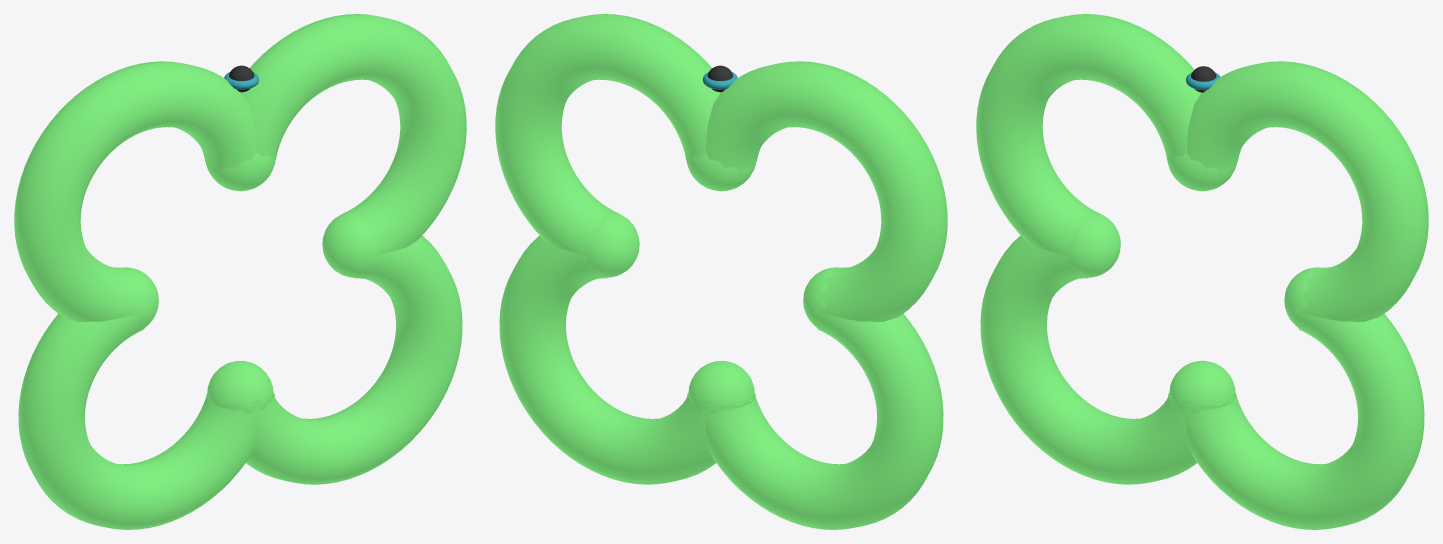
Rendered from tubeClover.gltf.
3 views of the same model, side by side, from view 1: azimuth 30°, elevation 25°; view 2: azimuth 150°, elevation 25°; view 3: azimuth 330°, elevation 25° (orthographic).
Parts seen in each view (by area): view 1: Torus (×4), Sphere (×4); view 2: Torus (×4), Sphere (×4); view 3: Torus (×4), Sphere (×4).
Boxes of the visible parts, x1=… form: Torus (×4): x1=14, y1=14, x2=466, y2=529; Sphere (×4): x1=120, y1=153, x2=376, y2=413; Torus (×4): x1=495, y1=14, x2=947, y2=529; Sphere (×4): x1=585, y1=153, x2=841, y2=413; Torus (×4): x1=976, y1=14, x2=1428, y2=529; Sphere (×4): x1=1066, y1=152, x2=1322, y2=412.
Size of the model in its own units: 2.31 by 2.28 by 0.32.
